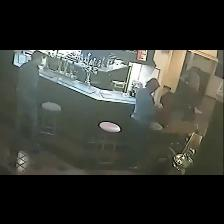person: (9, 51, 44, 166), (125, 79, 159, 169)
